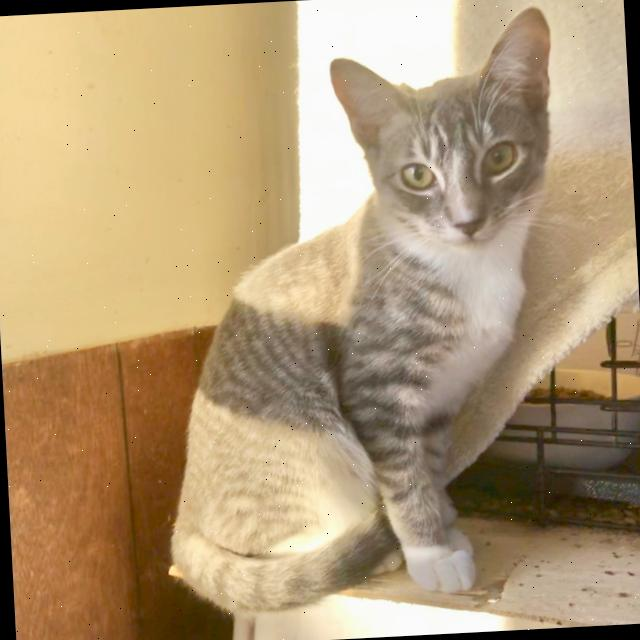american_shorthair_cat: (322, 1, 566, 268)
